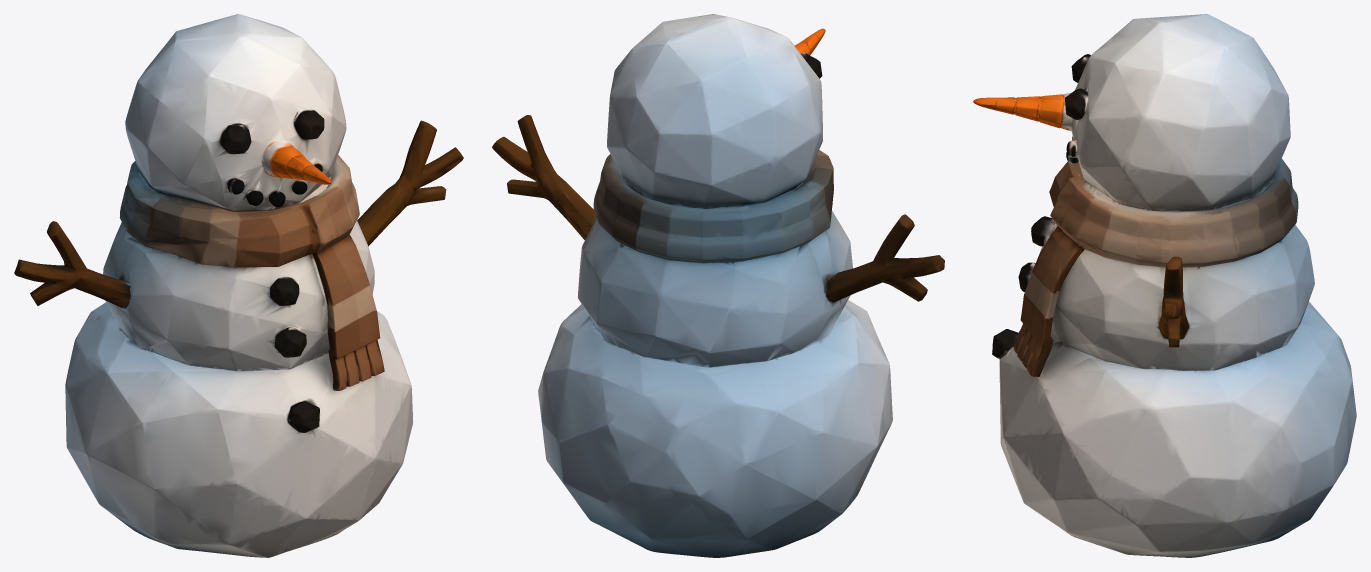
The model's file is snowman.glb.
The picture shows the model from 3 angles, left to right: view 1: azimuth 30°, elevation 25°; view 2: azimuth 150°, elevation 25°; view 3: azimuth 270°, elevation 25°; orthographic projection.
Parts seen in each view (by area): view 1: node_0; view 2: node_0; view 3: node_0.
Boxes of the visible parts, x1,y1,x2,y2 form: node_0: (14, 14, 463, 557); node_0: (492, 14, 944, 557); node_0: (973, 14, 1356, 557).
Size of the model in its own units: 1.06 by 1.09 by 0.7739.
1 material, 1 textured.
